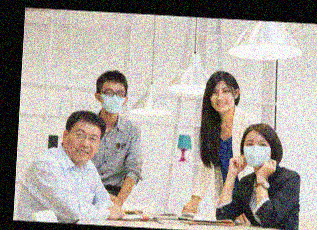with_mask: (242, 136, 273, 169), (97, 85, 127, 115)
without_mask: (66, 125, 102, 164), (211, 85, 235, 113)
